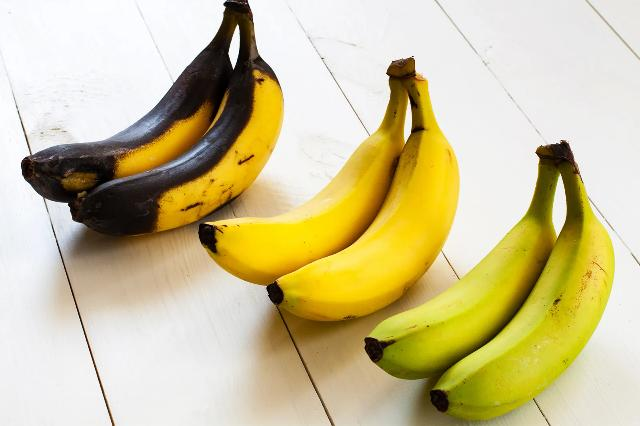Bananas: (224, 66, 466, 320), (395, 146, 617, 420)
